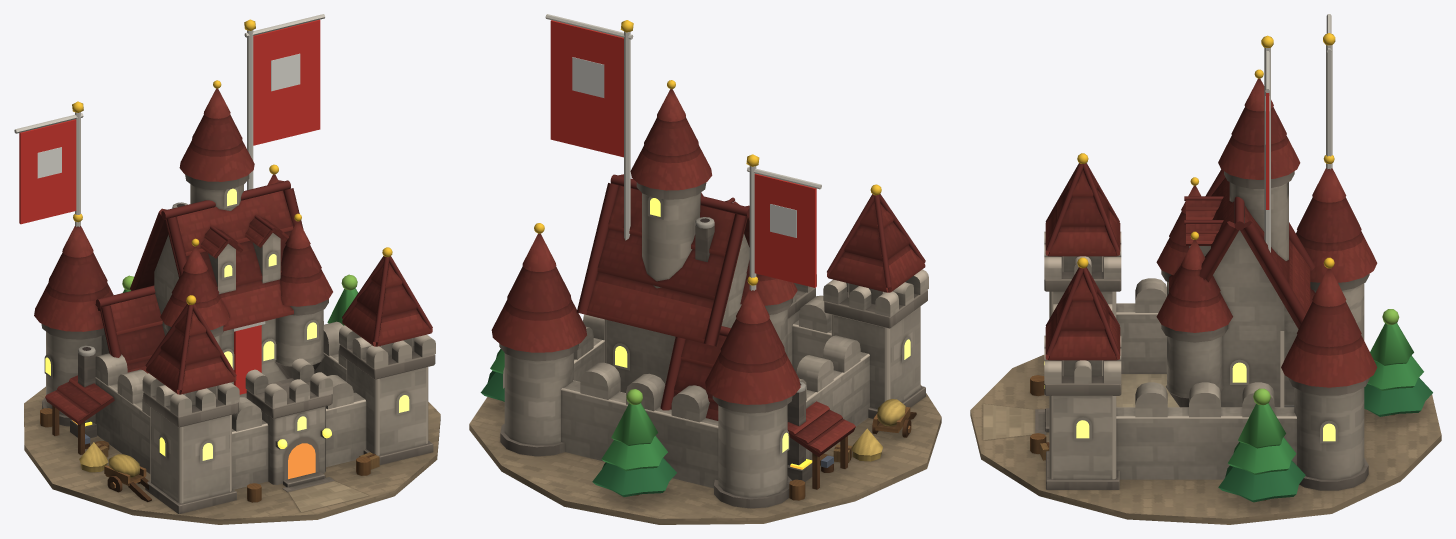
The model's file is residence_dl4_red.glb.
The picture shows the model from 3 angles, left to right: view 1: azimuth 30°, elevation 25°; view 2: azimuth 150°, elevation 25°; view 3: azimuth 270°, elevation 25°; orthographic projection. The views are drawn at different scales.
Visible parts, largest first — view 1: residence_dl4_red; view 2: residence_dl4_red; view 3: residence_dl4_red.
Part boxes in pixels (<box>): residence_dl4_red: <box>14,14,440,524</box>; residence_dl4_red: <box>469,14,941,524</box>; residence_dl4_red: <box>970,14,1441,524</box>.
Size of the model in its own units: 1.67 by 1.64 by 1.68.
Materials: 5 (1 with a texture image).
